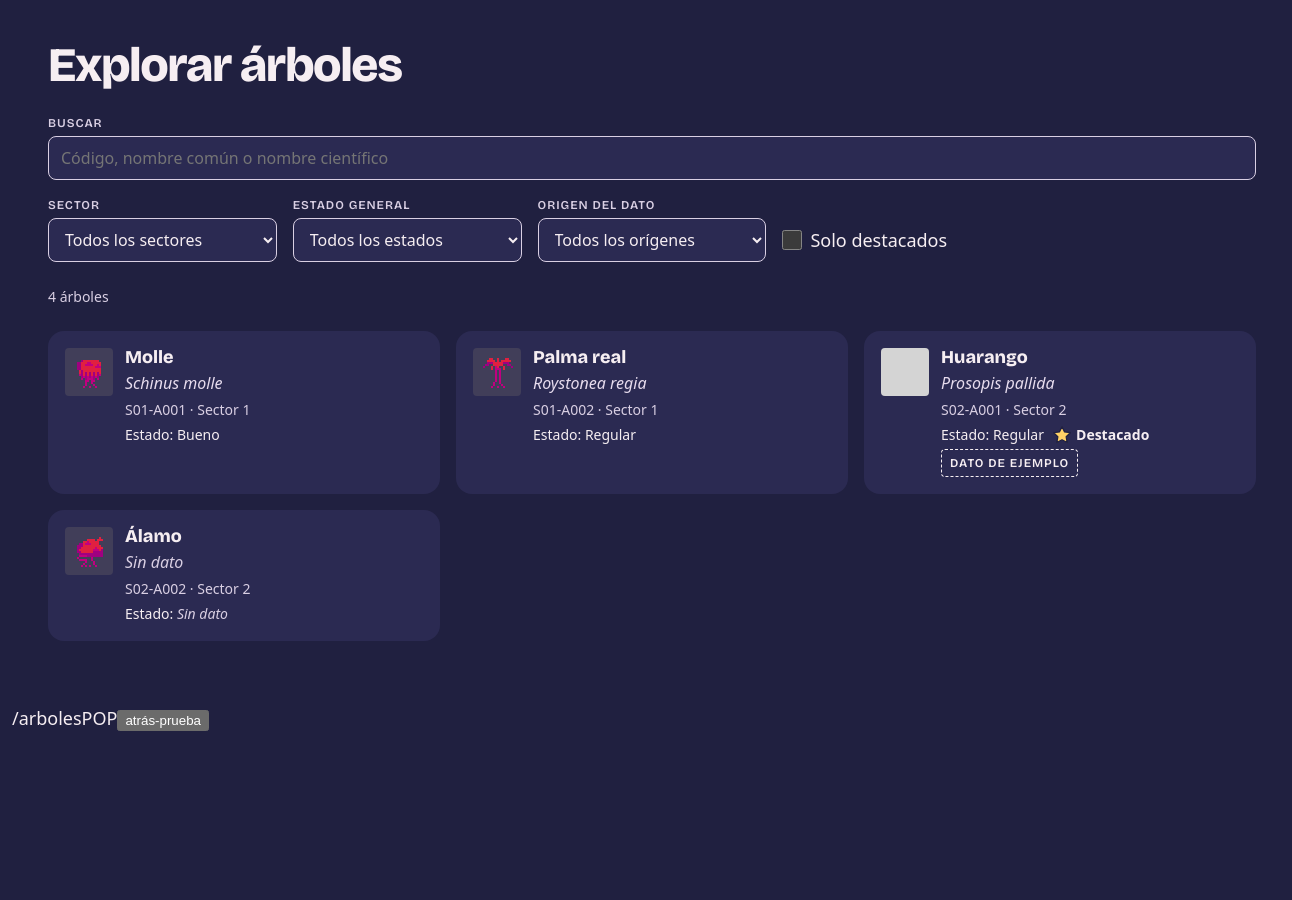
Scenario: VistaExplorar: buscador, filtros y URL › filtros › por destacado
Expected: the list is shown, [48, 331, 1256, 641]
Click the checkbox labelled "Solo destacados" at (792, 240), box [782, 230, 802, 250]
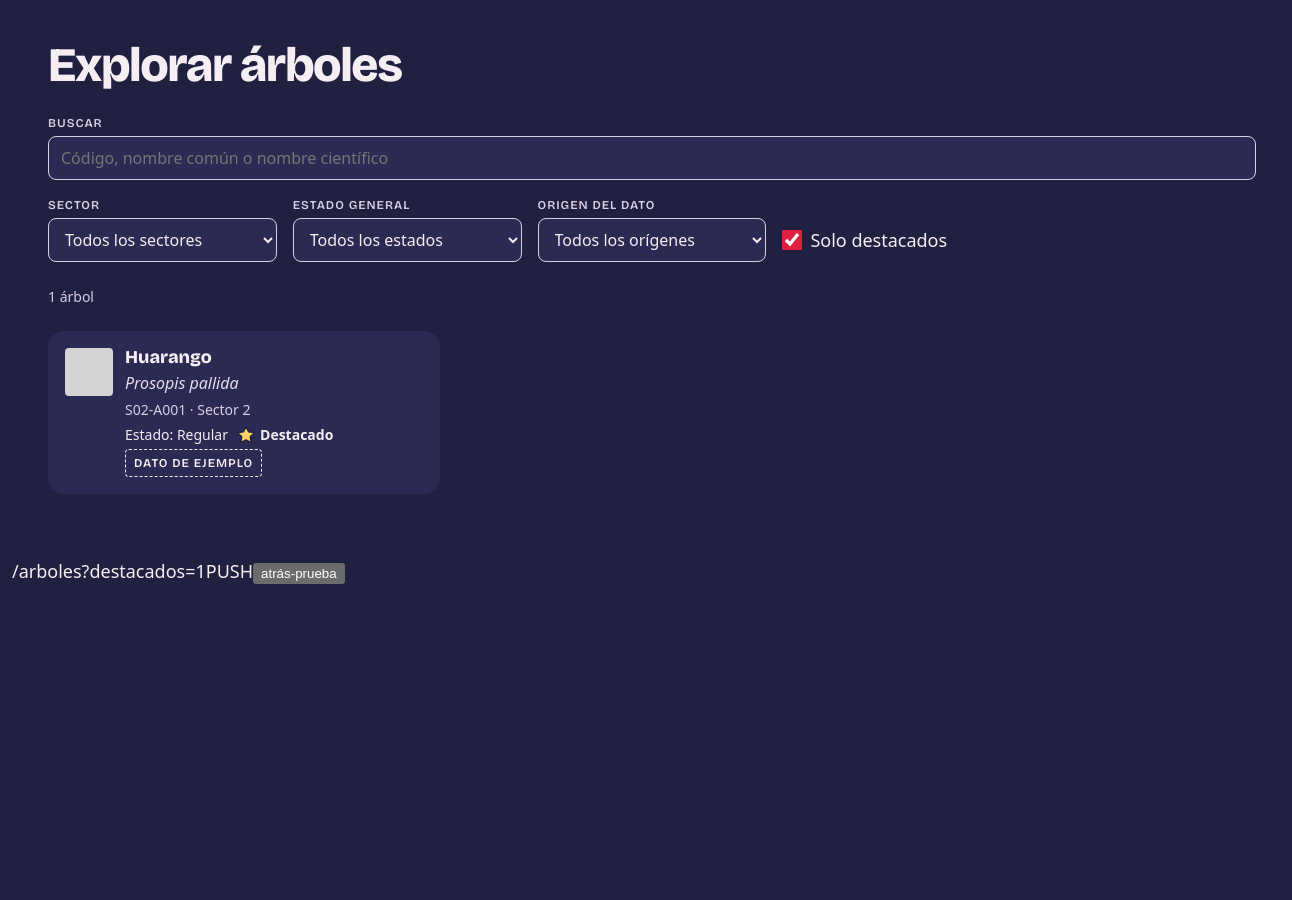
Expected: the number of list items is 1, [48, 331, 440, 494]
